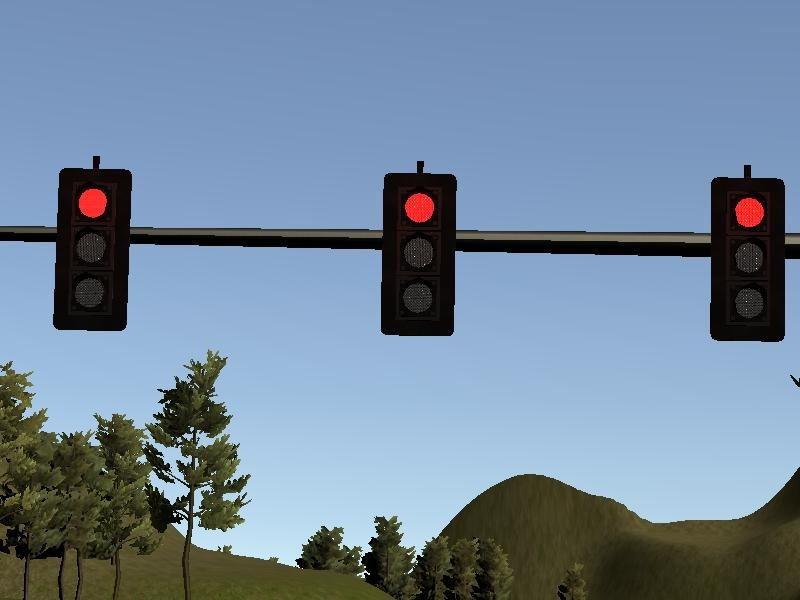red: (54, 169, 132, 332), (709, 178, 787, 341), (380, 173, 458, 336)
